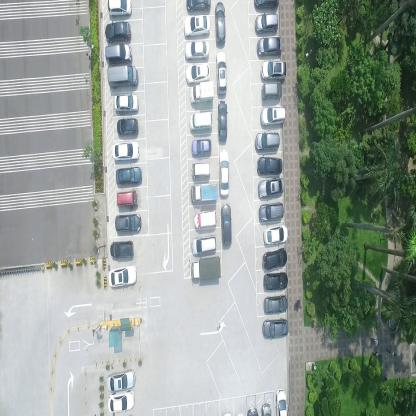car: (107, 65, 139, 91), (107, 263, 137, 290), (190, 257, 221, 283), (107, 369, 135, 395), (183, 13, 211, 37), (257, 175, 284, 199), (111, 139, 140, 161), (263, 246, 288, 271), (105, 21, 131, 45), (107, 389, 134, 412), (261, 318, 289, 340), (218, 148, 230, 198), (257, 36, 283, 59), (190, 235, 216, 258), (190, 181, 217, 203), (114, 212, 141, 233), (105, 45, 132, 66), (190, 80, 214, 103), (185, 61, 210, 83), (188, 110, 213, 132), (261, 60, 286, 82), (260, 104, 285, 126), (263, 223, 288, 245), (263, 293, 288, 315), (254, 131, 280, 152), (220, 203, 232, 248), (255, 12, 279, 34), (259, 201, 284, 222), (116, 166, 142, 186), (114, 94, 140, 114), (256, 157, 283, 176), (215, 0, 226, 46), (185, 39, 209, 60), (263, 272, 289, 291), (216, 50, 227, 94), (193, 210, 217, 230), (109, 240, 134, 258), (107, 0, 132, 18), (116, 188, 138, 208), (116, 118, 139, 137), (218, 99, 228, 141), (261, 82, 283, 101), (192, 138, 212, 156), (191, 161, 211, 178), (276, 388, 288, 415), (185, 0, 211, 12), (254, 0, 278, 11)
